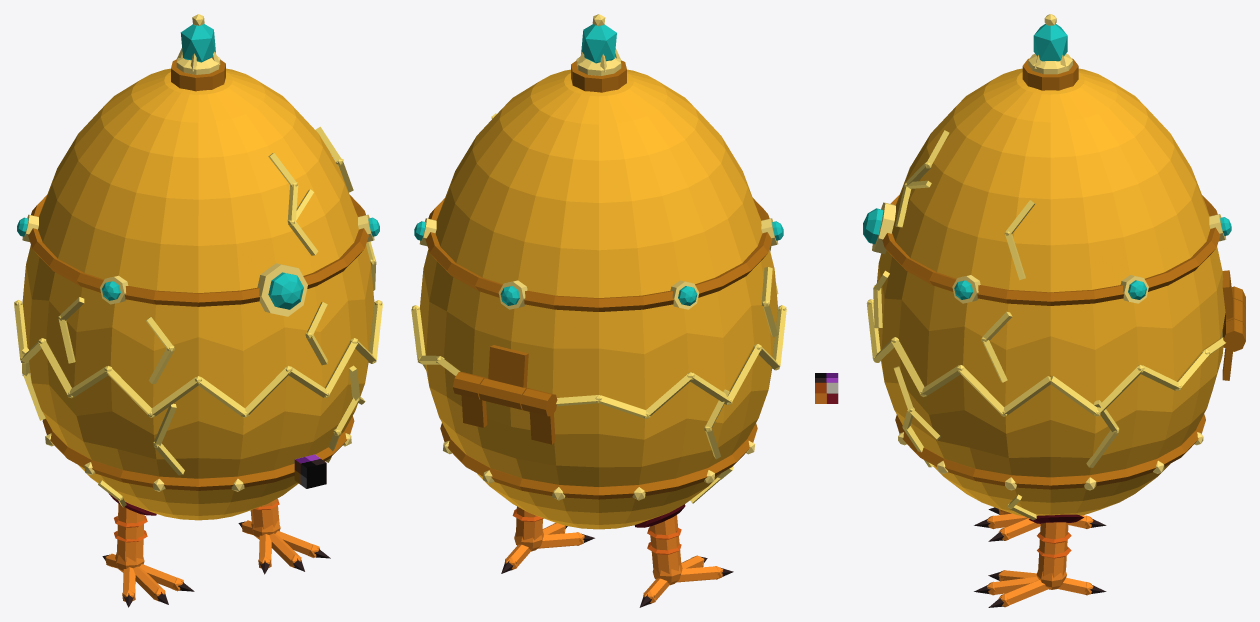
Rendered from HuevoMimico.fbx.
3 views of the same model, side by side, from view 1: azimuth 30°, elevation 25°; view 2: azimuth 150°, elevation 25°; view 3: azimuth 270°, elevation 25° (orthographic). The views are drawn at different scales.
Visible parts, largest first — view 1: Cabeza, Cuerpo, Cuerpo__Brillo_grieta, Cabeza__Brillo_grieta, PataDer, PataIzq, _Frente; view 2: Cabeza, Cuerpo, Cuerpo__Brillo_grieta, PataDer, PataIzq, Cabeza__Brillo_grieta; view 3: Cabeza, Cuerpo, Cuerpo__Brillo_grieta, PataIzq, Cabeza__Brillo_grieta, PataDer, _Frente.
Boxes of the visible parts, x1=… form: Cabeza: x1=17, y1=14, x2=379, y2=407; Cuerpo: x1=29, y1=304, x2=374, y2=520; Cuerpo__Brillo_grieta: x1=14, y1=300, x2=382, y2=507; Cabeza__Brillo_grieta: x1=58, y1=126, x2=376, y2=383; PataDer: x1=102, y1=503, x2=194, y2=607; PataIzq: x1=238, y1=498, x2=330, y2=574; _Frente: x1=294, y1=454, x2=326, y2=488; Cabeza: x1=414, y1=14, x2=783, y2=409; Cuerpo: x1=420, y1=309, x2=777, y2=529; Cuerpo__Brillo_grieta: x1=411, y1=305, x2=786, y2=503; PataDer: x1=639, y1=515, x2=733, y2=607; PataIzq: x1=501, y1=506, x2=594, y2=573; Cabeza__Brillo_grieta: x1=491, y1=113, x2=778, y2=337; Cabeza: x1=863, y1=14, x2=1245, y2=406; Cuerpo: x1=881, y1=286, x2=1245, y2=523; Cuerpo__Brillo_grieta: x1=866, y1=299, x2=1225, y2=520; PataIzq: x1=974, y1=522, x2=1106, y2=607; Cabeza__Brillo_grieta: x1=873, y1=130, x2=1034, y2=382; PataDer: x1=974, y1=507, x2=1106, y2=541; _Frente: x1=815, y1=373, x2=838, y2=403.
Size of the model in its own units: 315 by 517 by 368.
2 materials, 2 textured.
